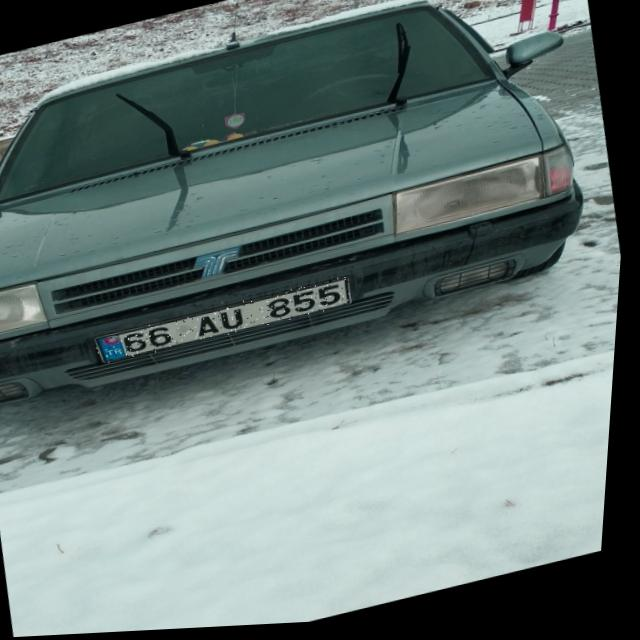license_plate: (97, 279, 358, 368)
